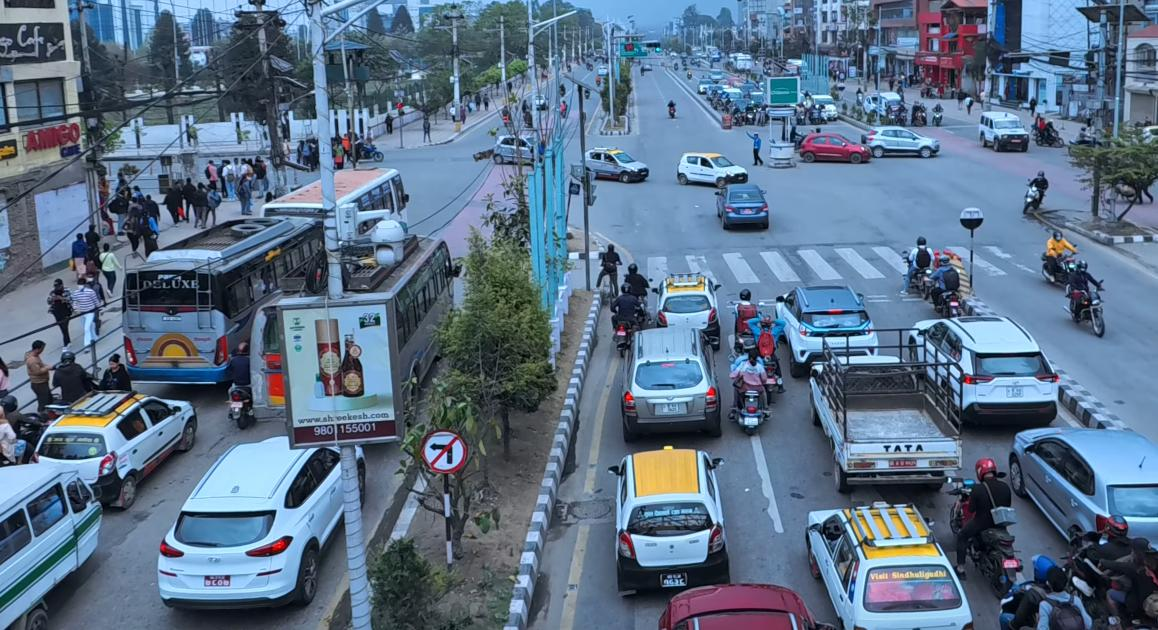ambulance: (980, 105, 1035, 162)
bus: (242, 223, 464, 428)
car: (1003, 419, 1158, 555), (912, 304, 1061, 428), (772, 281, 882, 381), (862, 120, 943, 163), (799, 133, 870, 170)
taxi: (25, 387, 199, 510), (811, 499, 973, 630), (607, 439, 732, 598), (655, 273, 725, 346), (579, 142, 653, 189), (675, 150, 749, 188)
tempo: (0, 462, 108, 630)
transport_vehicle: (802, 325, 971, 492)
